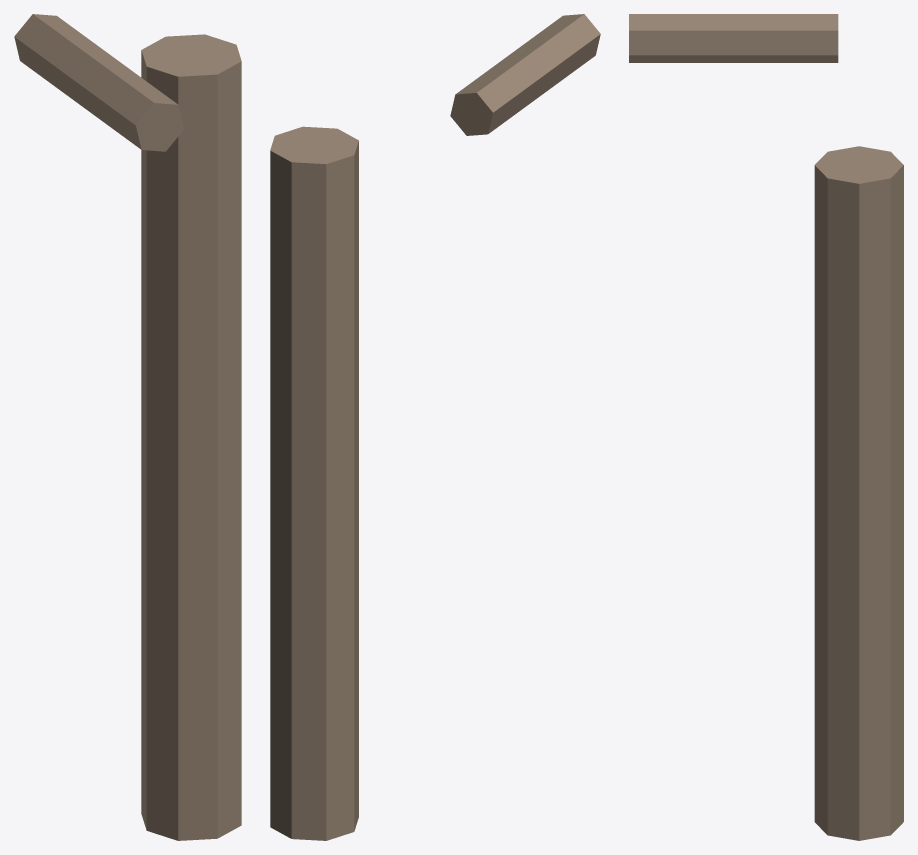
File: fallen_branch.glb
The picture shows the model from 3 angles, left to right: view 1: azimuth 30°, elevation 25°; view 2: azimuth 150°, elevation 25°; view 3: azimuth 270°, elevation 25°; orthographic projection. The views are drawn at different scales.
Visible parts, largest first — view 1: geometry_0; view 2: geometry_0; view 3: geometry_0.
Part boxes in pixels (left/top/right/bottom): geometry_0: left=14, top=14, right=241, bottom=840; geometry_0: left=270, top=14, right=600, bottom=840; geometry_0: left=629, top=14, right=903, bottom=840.
Bounding box in the file's own units: 0.8346 × 2.91 × 0.985.
